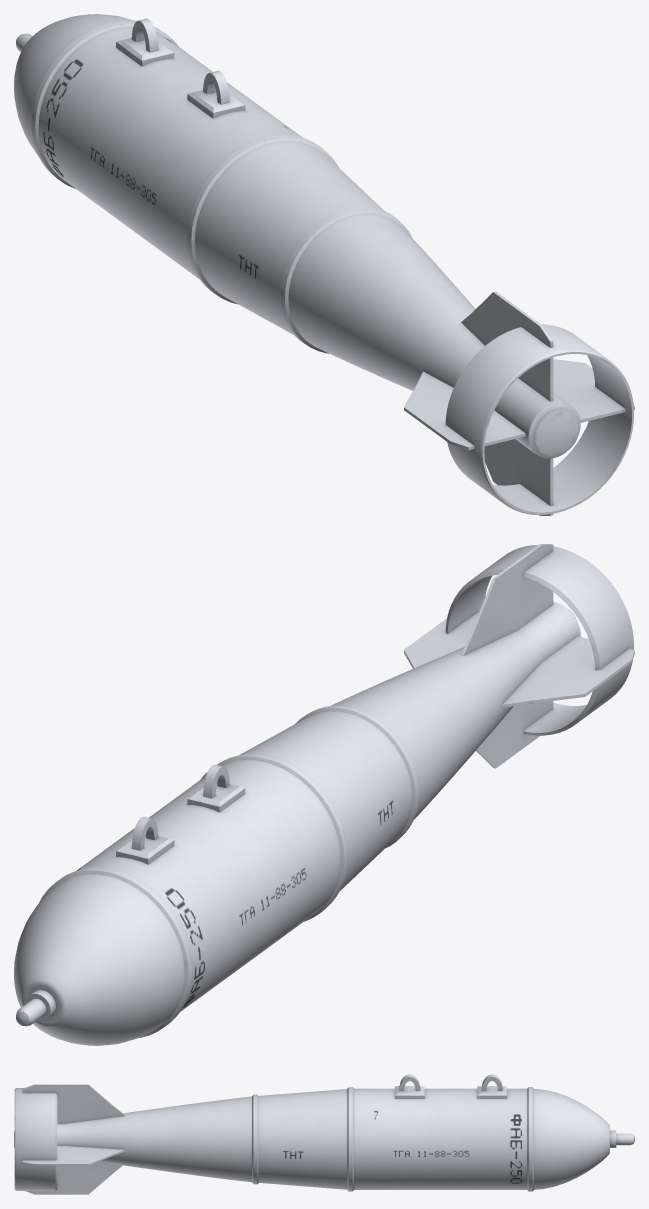
The model's file is fab250.glb.
3 renders of one model, top to bottom at view 1: azimuth 30°, elevation 25°; view 2: azimuth 150°, elevation 25°; view 3: azimuth 270°, elevation 25°, orthographic. The views are drawn at different scales.
Parts seen in each view (by area): view 1: FB2_body, FB2_tail, FB2_lugs; view 2: FB2_body, FB2_tail, FB2_lugs, FB2_fuze; view 3: FB2_body, FB2_tail, FB2_lugs, FB2_fuze.
Boxes of the visible parts, x1=… form: FB2_body: x1=14, y1=14, x2=580, y2=458; FB2_tail: x1=404, y1=291, x2=634, y2=515; FB2_lugs: x1=116, y1=18, x2=245, y2=118; FB2_body: x1=14, y1=602, x2=580, y2=1045; FB2_tail: x1=404, y1=544, x2=634, y2=768; FB2_lugs: x1=116, y1=764, x2=245, y2=864; FB2_fuze: x1=16, y1=990, x2=55, y2=1026; FB2_body: x1=14, y1=1087, x2=609, y2=1191; FB2_tail: x1=14, y1=1084, x2=125, y2=1194; FB2_lugs: x1=395, y1=1074, x2=506, y2=1098; FB2_fuze: x1=610, y1=1130, x2=634, y2=1147.
Size of the model in its own units: 0.292 by 0.316 by 1.5.
Materials: 2 (2 with a texture image).
